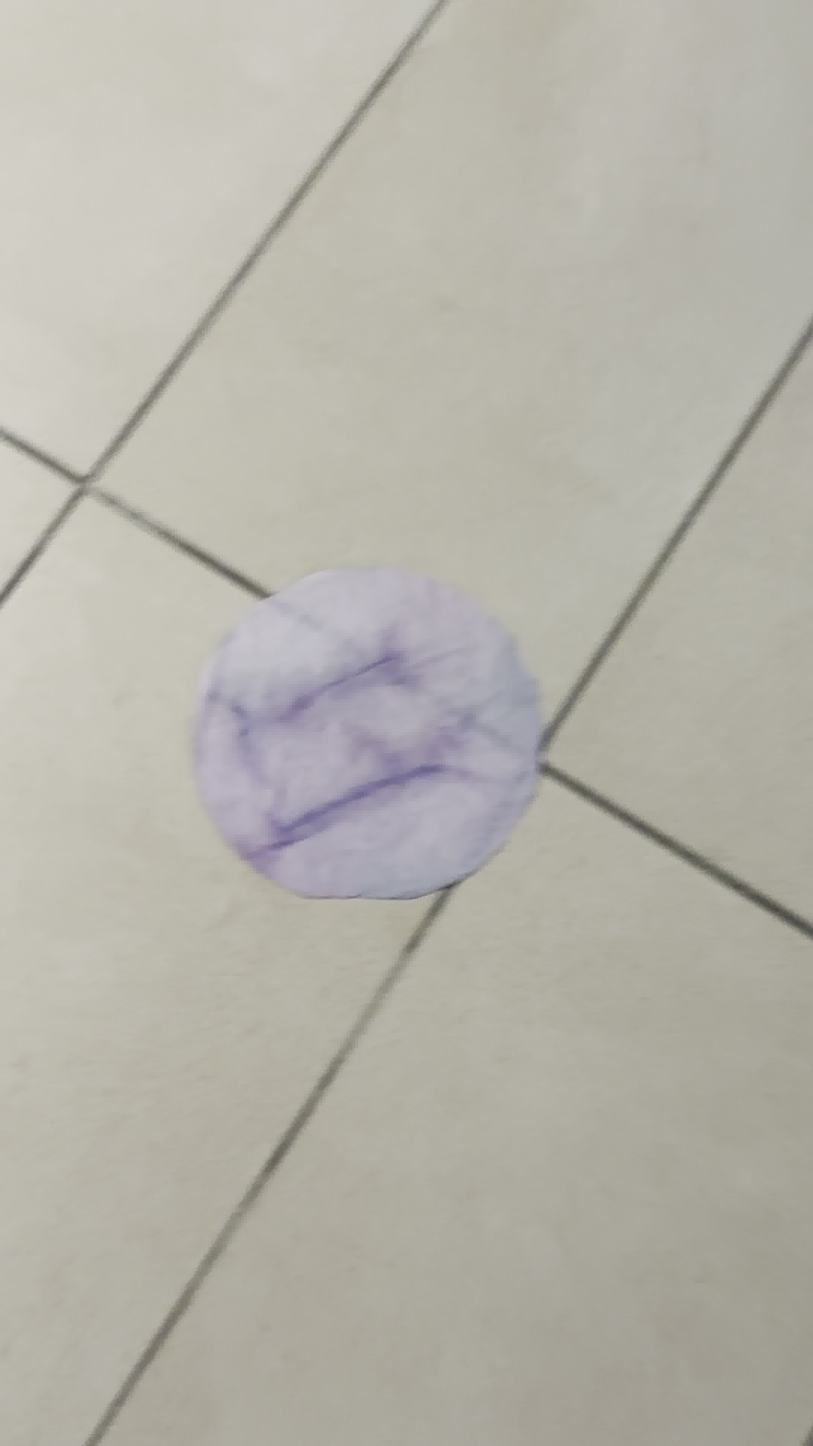Target: (188, 570, 543, 900)
